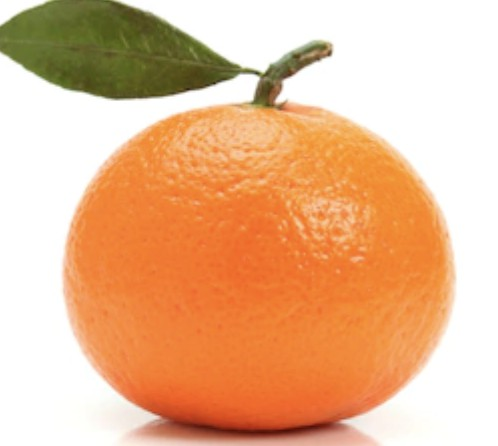fresh_orange: (62, 99, 458, 436)
